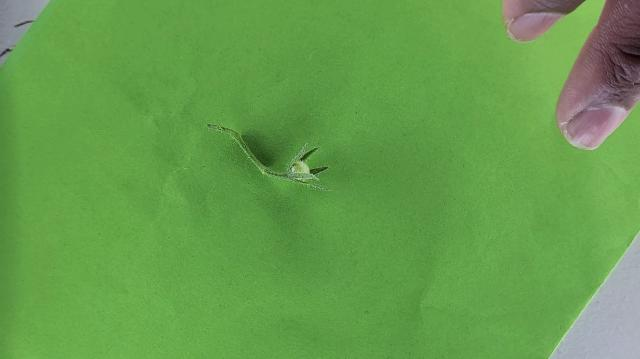Fruit Bud: (287, 145, 331, 185)
